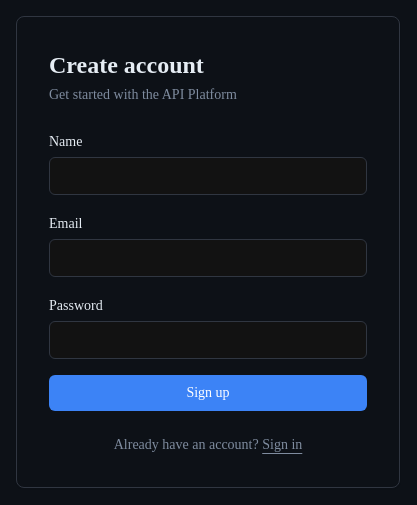
Test case: RegisterPage › shows confirmation message when email confirmation is required (session is null)
Type "Carol" into the field labelled "Name".
click(208, 176); type("Carol")  # box [49,157,367,195]
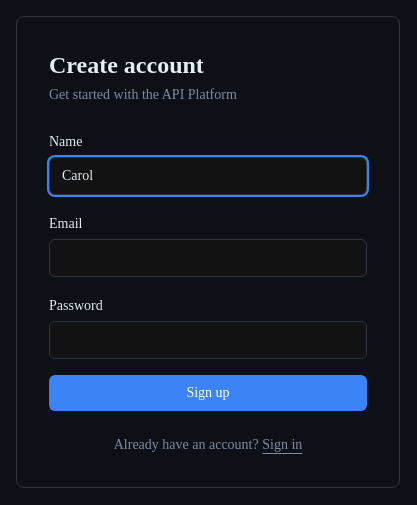
Type "carol@example.com" into the field labelled "Email".
click(208, 258); type("carol@example.com")  # box [49,239,367,277]
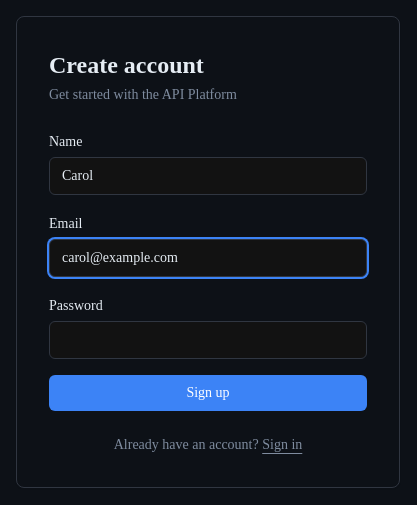
Type "password123" into the password field labelled "Password".
click(208, 340); type("password123")  # box [49,321,367,359]
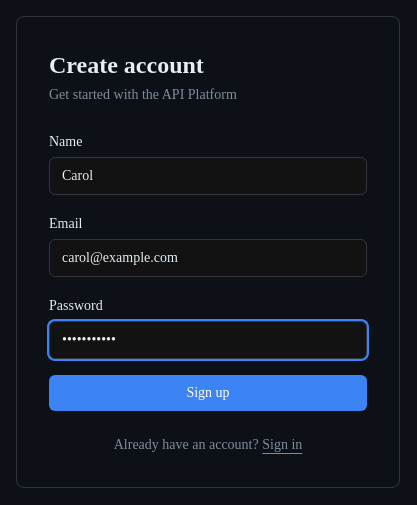
Click the button "Sign up".
click(208, 393)  # box [49,375,367,411]
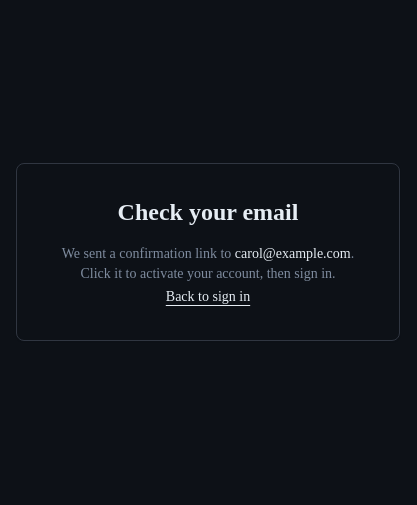
Result: the heading "Check your email" is shown at [118,199,298,225]
Result: the text "carol@example.com" is shown at [235,246,351,261]
